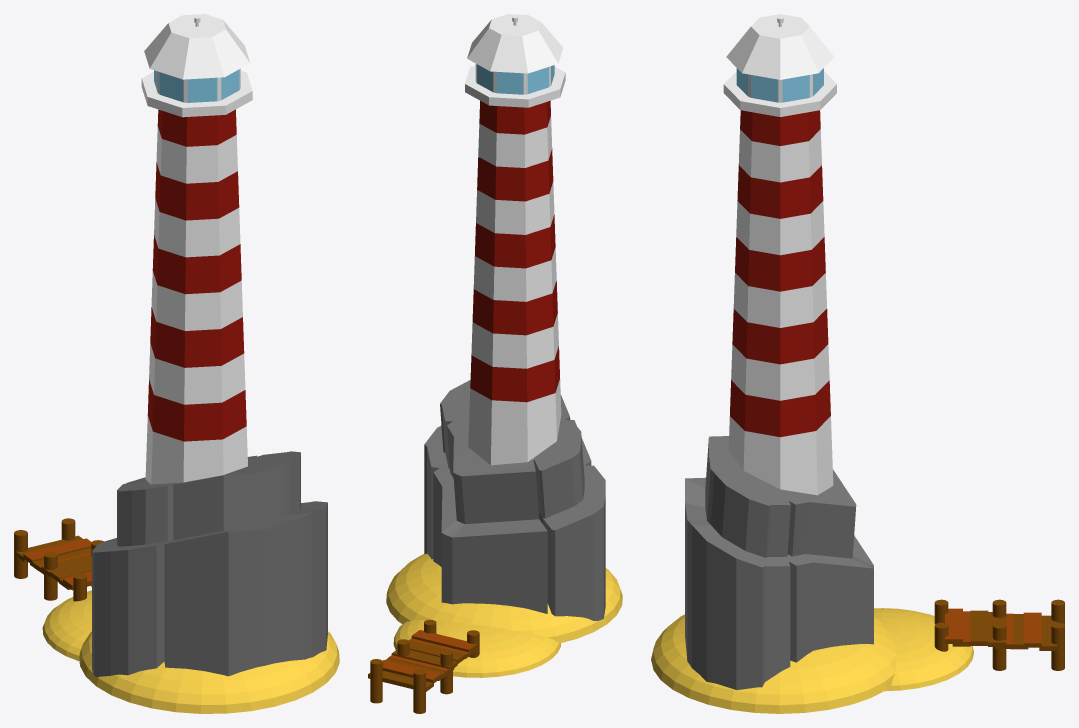
File: lighthouse.fbx
3 views of the same model, side by side, from view 1: azimuth 30°, elevation 25°; view 2: azimuth 150°, elevation 25°; view 3: azimuth 270°, elevation 25° (orthographic). The views are drawn at different scales.
Visible parts, largest first — view 1: Cube.004, Sphere, Cube.006, Sphere.001; view 2: Cube.004, Sphere, Cube.006, Sphere.001; view 3: Cube.004, Sphere, Cube.006, Sphere.001.
Boxes of the visible parts, <box> form: Cube.004: <box>92,14,327,677</box>; Sphere: <box>79,631,339,713</box>; Cube.006: <box>14,518,103,601</box>; Sphere.001: <box>42,590,91,661</box>; Cube.004: <box>424,14,605,620</box>; Sphere: <box>386,553,622,643</box>; Cube.006: <box>368,619,479,713</box>; Sphere.001: <box>393,620,561,677</box>; Cube.004: <box>685,14,873,690</box>; Sphere: <box>651,614,897,713</box>; Cube.006: <box>934,599,1064,670</box>; Sphere.001: <box>874,608,973,691</box>.
Bounding box in the file's own units: 1094 × 3016 × 1756.
2 materials, 2 textured.
